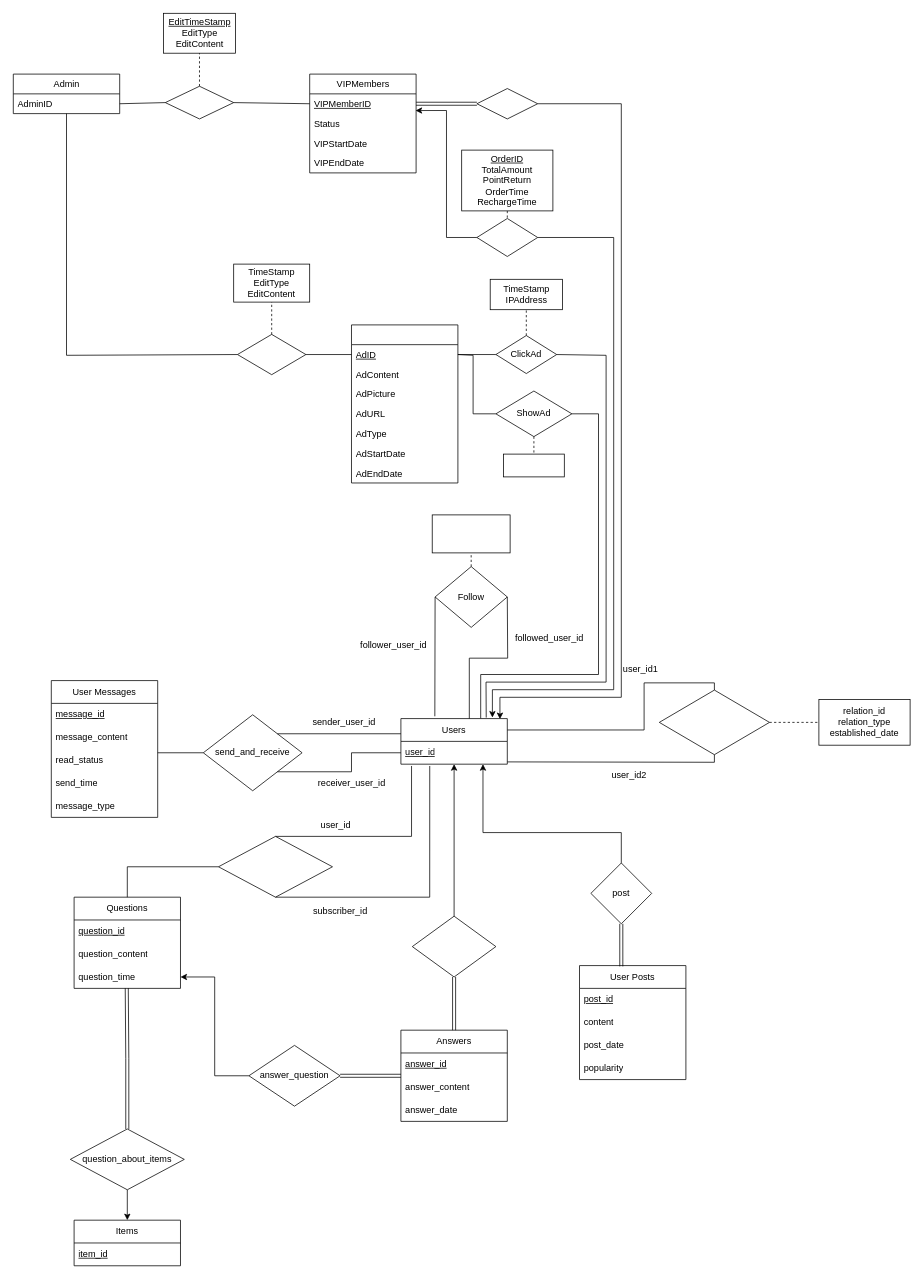
This 923x1279 diagram has some shape labels left out. Here are the shapes that lost their labels. From the top down, the box of each, then its label:
(165, 86, 234, 119): Admin_Edit
(476, 88, 538, 119): User_VIP
(476, 218, 538, 256): VIP_Order
(237, 334, 306, 375): AdminEdit
(351, 324, 458, 483): Advertisements
(503, 453, 564, 477): TimeStamp
(431, 514, 510, 553): follow_id follow_date
(659, 689, 770, 755): User Relationships
(218, 836, 332, 897): question_and_subscribe
(412, 915, 496, 977): answer_posed
